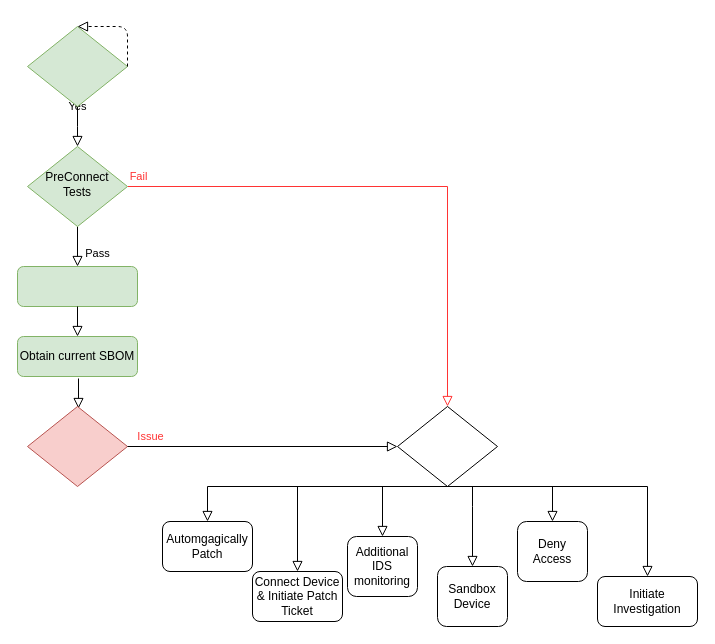
The diagram is 715 pixels wide and 644 high, and some of its shapes have lost their labels. Here are the shapes that lost their labels. From the top down, the centre of each, then its label:
(77,66): Await New Device
(77,286): Establish OpenC2 Link
(77,446): Analyze Vulnerabilty /License
(447,446): Risk Mitigation Decision
